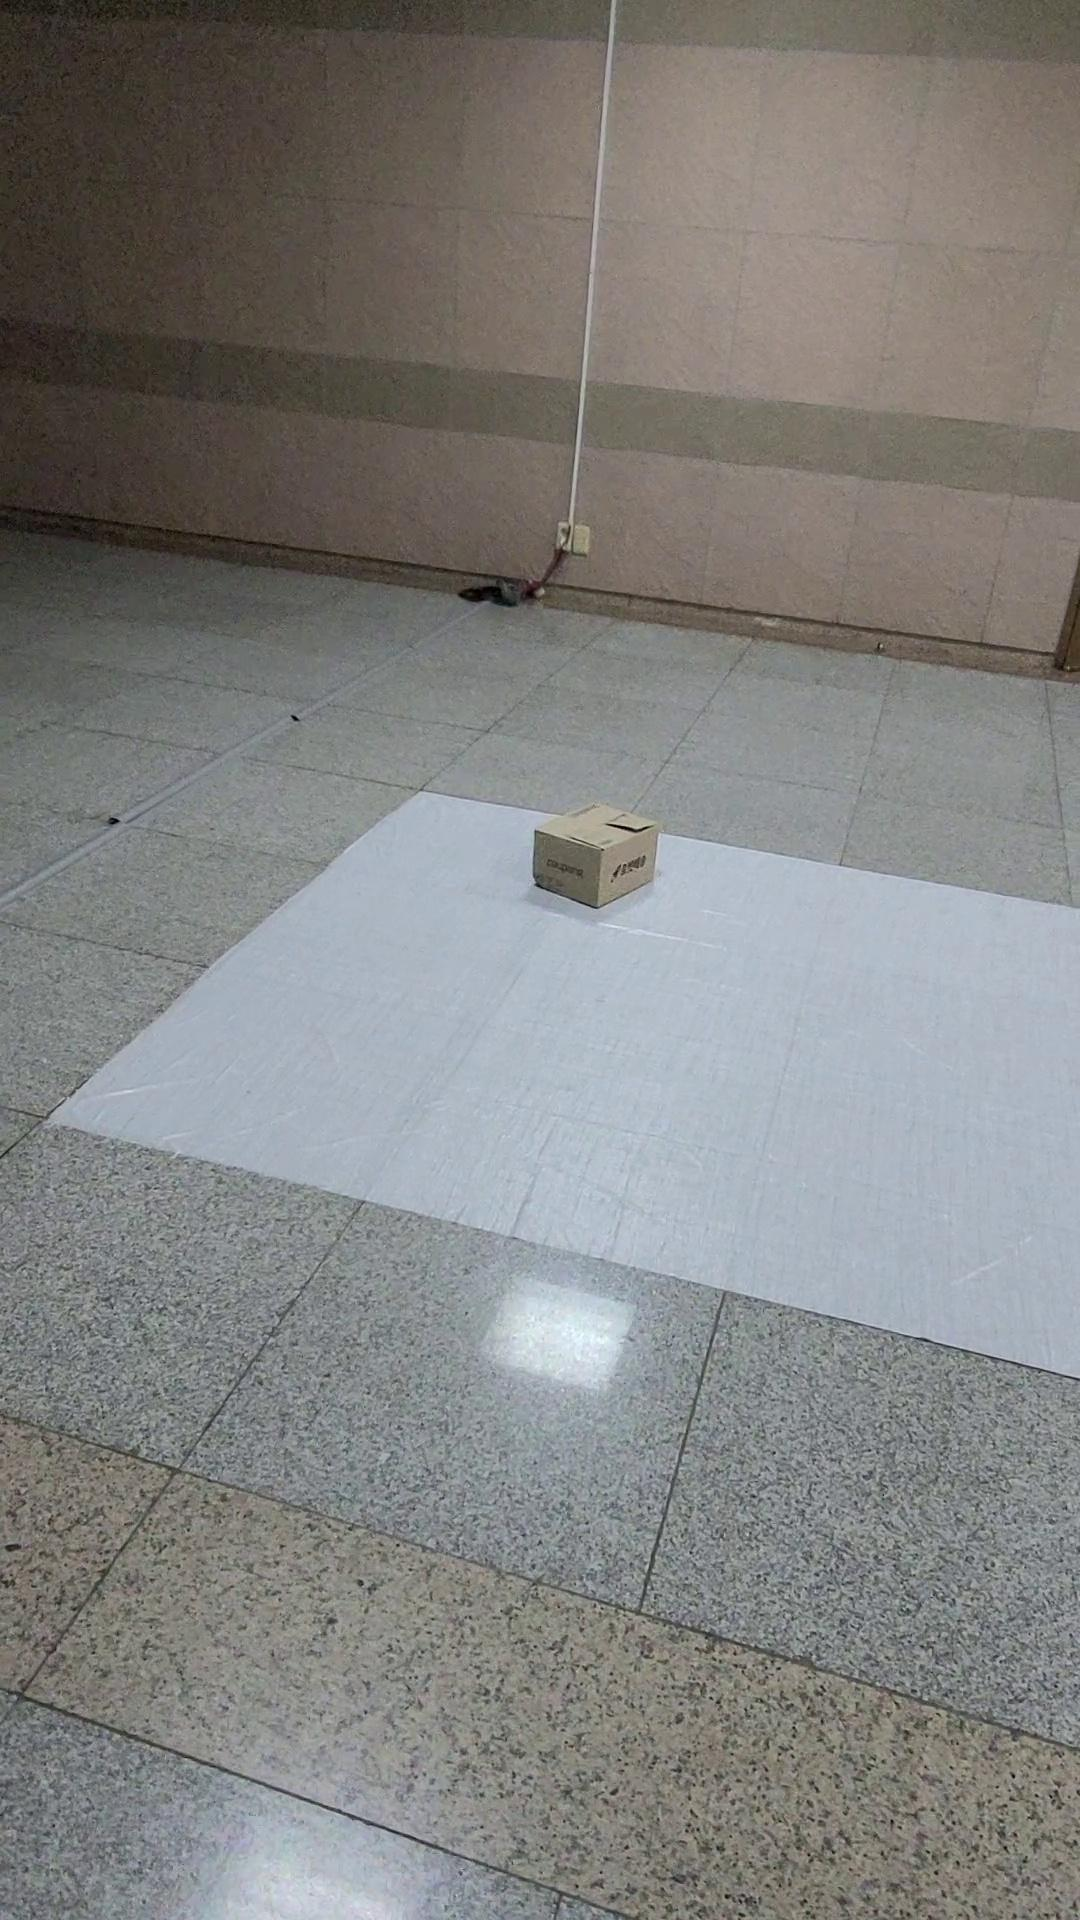Box: (488, 783, 679, 910)
